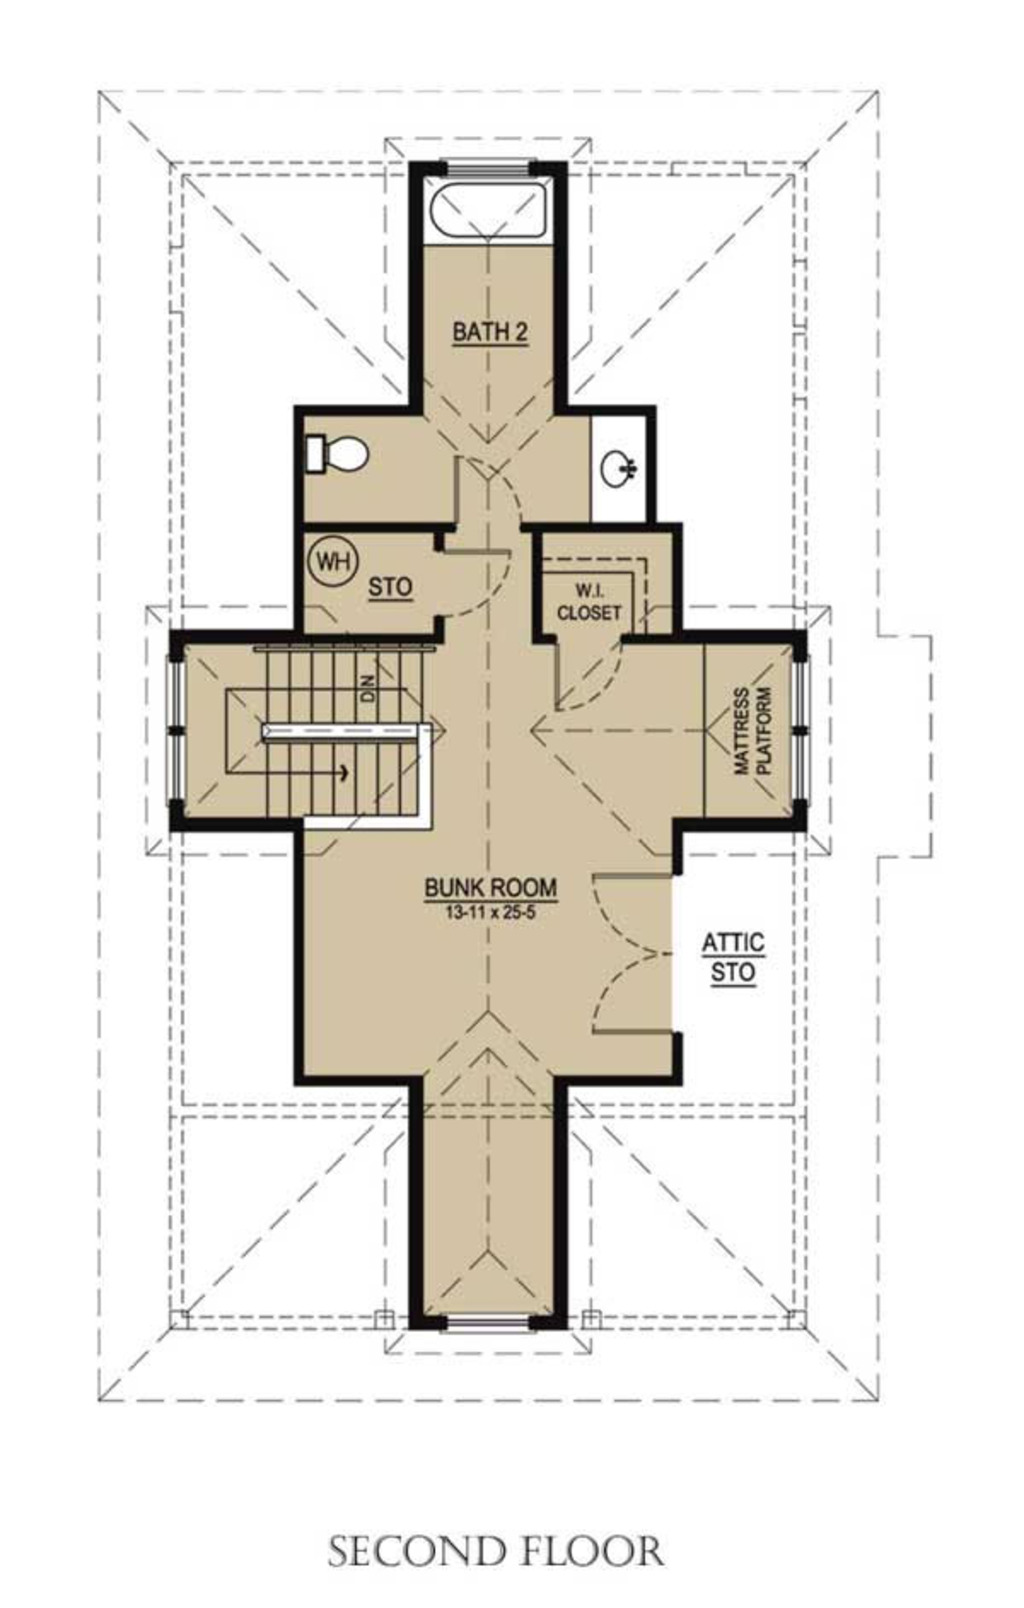door: (583, 861, 684, 1045), (426, 539, 510, 626), (549, 629, 627, 717), (445, 452, 527, 533)
large_sink: (300, 415, 371, 486)
small_sink: (583, 415, 657, 520)
stairs: (184, 629, 436, 834)
tub: (410, 177, 558, 255)
windows: (162, 657, 193, 803), (786, 650, 814, 810), (431, 1307, 530, 1341)
